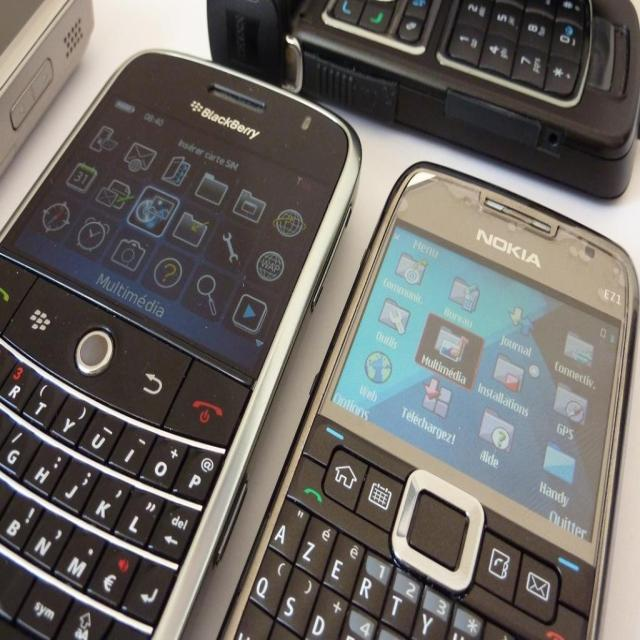mobile: (0, 48, 362, 640), (216, 161, 640, 640), (207, 0, 640, 198)
